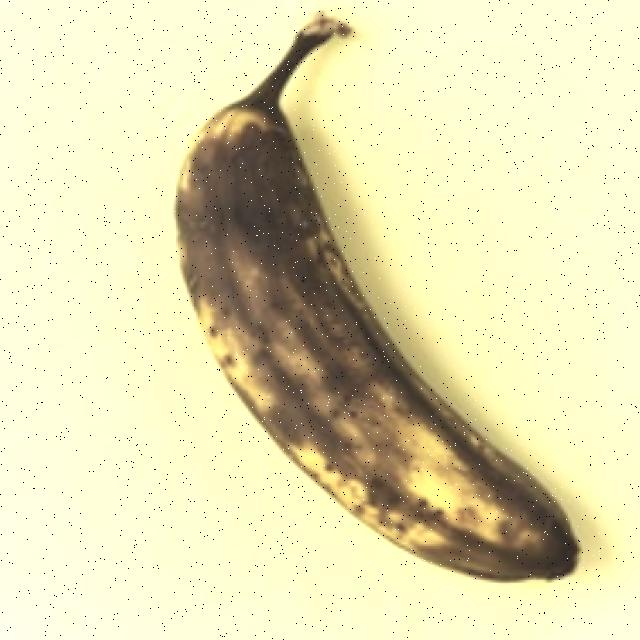Rotten: (153, 10, 602, 602)
